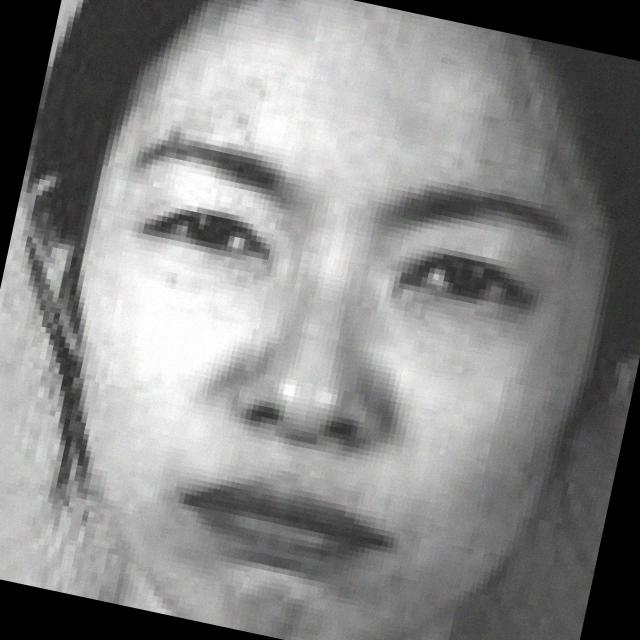disgust: (11, 3, 612, 640)
